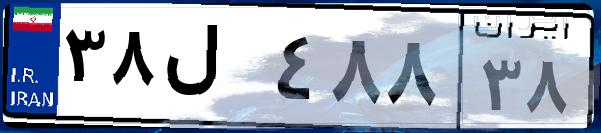3: (57, 26, 110, 100), (475, 38, 525, 113)
4: (270, 28, 330, 110)
8: (385, 28, 445, 110), (330, 28, 385, 110), (525, 38, 570, 115), (110, 28, 158, 98)
ل: (158, 20, 270, 120)
